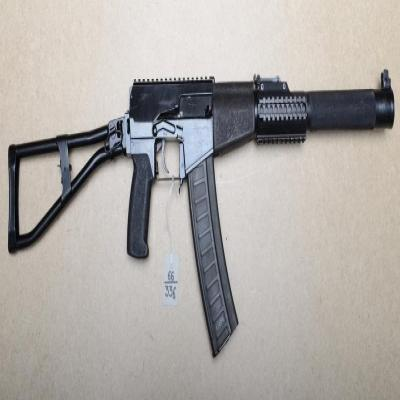weapon: (6, 70, 395, 357)
